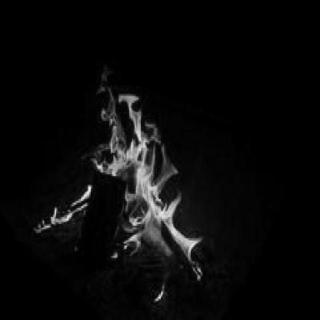Fire: (32, 59, 218, 297)
